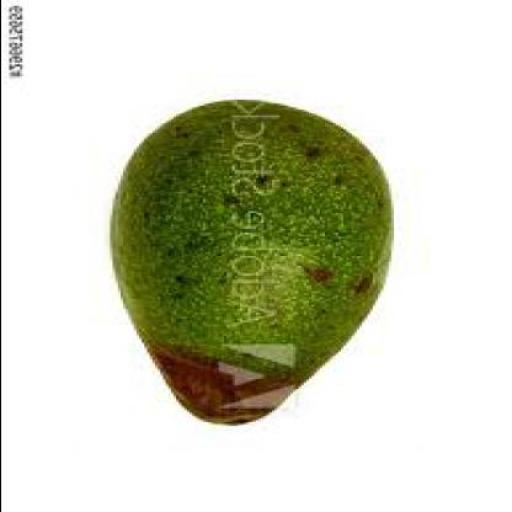biodegradable: (117, 102, 393, 428)
